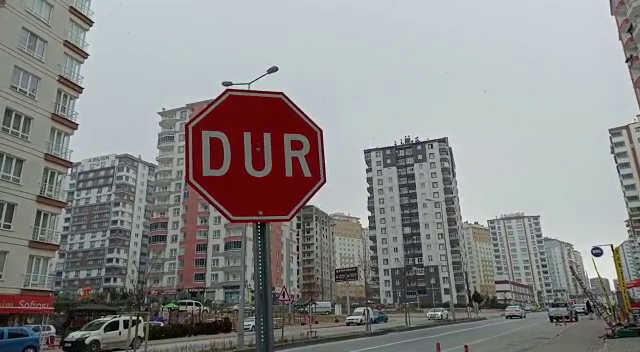stop: (181, 86, 330, 225)
